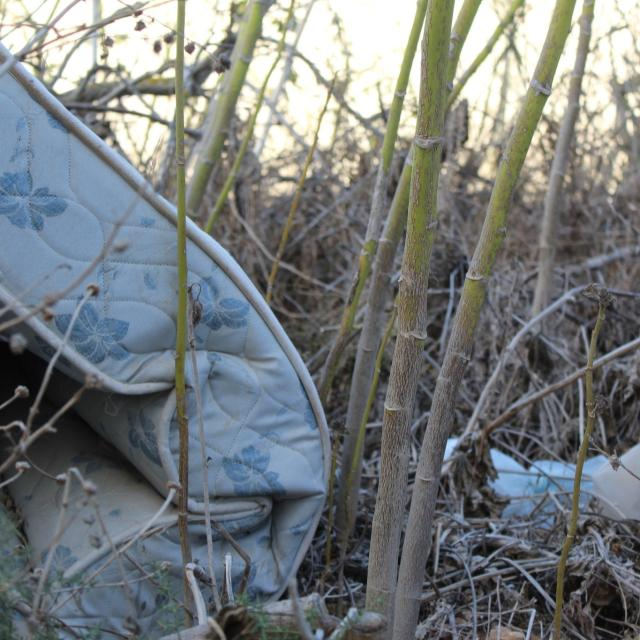Other litter: (1, 46, 335, 640), (484, 442, 640, 521)
